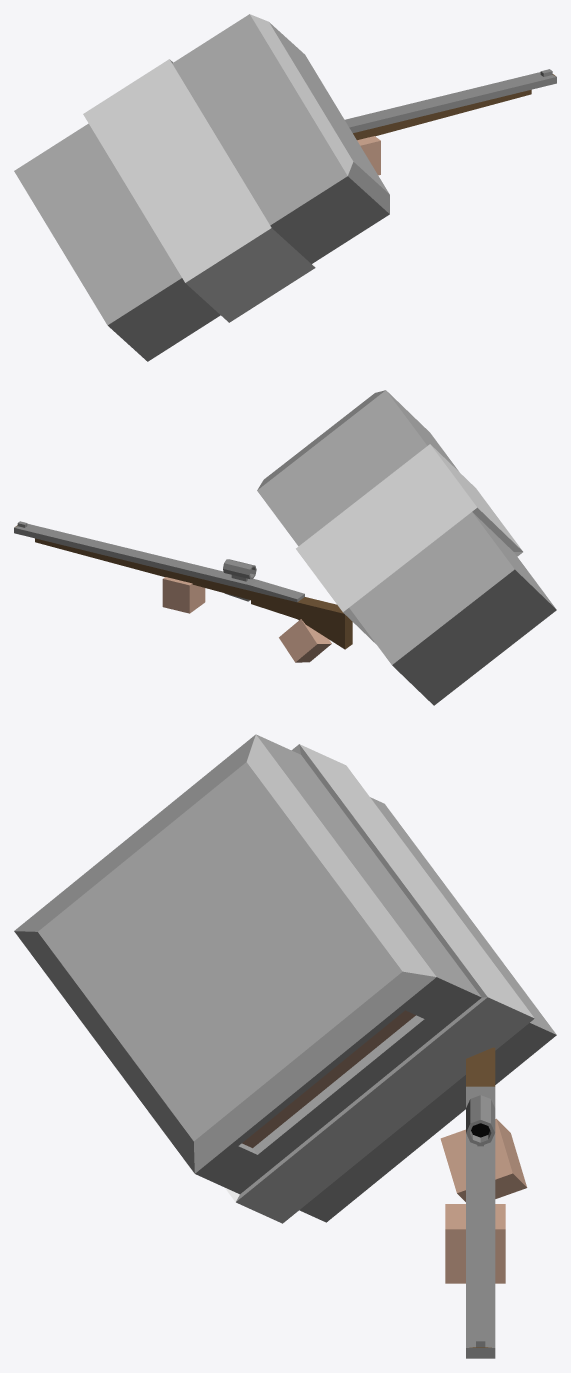
The model's file is sniper.gltf.
3 renders of one model, top to bottom at view 1: azimuth 30°, elevation 25°; view 2: azimuth 150°, elevation 25°; view 3: azimuth 270°, elevation 25°, orthographic. The views are drawn at different scales.
Parts seen in each view (by area): view 1: Cube, Cube.001, Cube.003; view 2: Cube, Cube.001, Cube.002, Cube.003, Cylinder; view 3: Cube, Cube.001, Cube.002, Cube.003, Cylinder.
Part boxes in pixels (x1,y1,x2,y2): Cube: [14, 14, 389, 361]; Cube.001: [345, 69, 556, 140]; Cube.003: [357, 136, 380, 175]; Cube: [257, 390, 556, 705]; Cube.001: [14, 521, 352, 649]; Cube.002: [279, 619, 331, 662]; Cube.003: [162, 577, 205, 613]; Cylinder: [223, 559, 256, 579]; Cube: [14, 734, 556, 1223]; Cube.001: [466, 1047, 495, 1358]; Cube.002: [440, 1118, 527, 1201]; Cube.003: [445, 1204, 505, 1283]; Cylinder: [466, 1095, 495, 1145].
Size of the model in its own units: 6.98 by 4.05 by 3.61.
